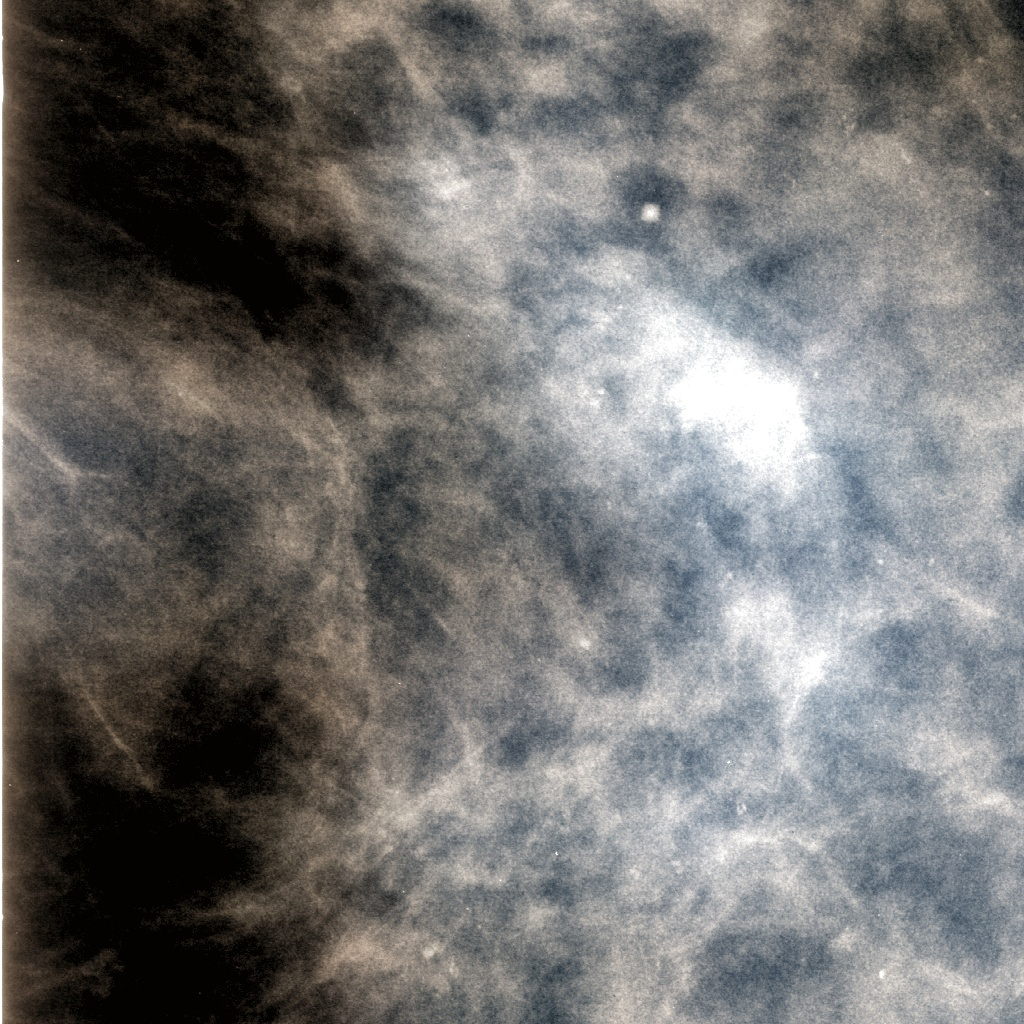tumor: (0, 256, 318, 768)
